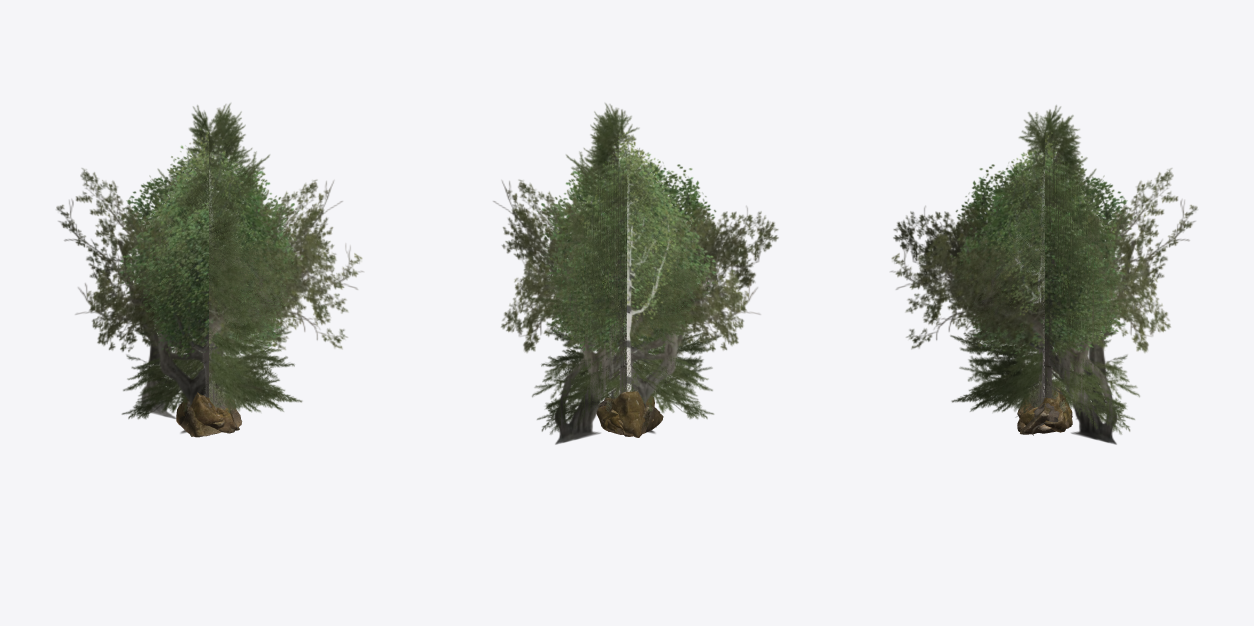
Rendered from nature.glb.
The picture shows the model from 3 angles, left to right: view 1: azimuth 30°, elevation 25°; view 2: azimuth 150°, elevation 25°; view 3: azimuth 270°, elevation 25°; orthographic projection.
Visible parts, largest first — view 1: n_leaf0__Body, n_fir0__Body, n_lind0__Body, n_lind1__Body, n_fir2__Body, n_birch0__Body, n_fir1__Body, n_rock2__Body, n_rock3__Body; view 2: n_leaf0__Body, n_fir0__Body, n_lind1__Body, n_fir2__Body, n_lind0__Body, n_birch0__Body, n_fir1__Body, n_rock3__Body, n_rock2__Body; view 3: n_leaf0__Body, n_fir0__Body, n_lind1__Body, n_fir2__Body, n_lind0__Body, n_birch0__Body, n_fir1__Body, n_rock3__Body.
Part boxes in pixels (left/top/right/bottom): n_leaf0__Body: left=56, top=168, right=363, bottom=433; n_fir0__Body: left=119, top=103, right=294, bottom=412; n_lind0__Body: left=117, top=155, right=303, bottom=403; n_lind1__Body: left=130, top=201, right=284, bottom=397; n_fir2__Body: left=122, top=180, right=302, bottom=419; n_birch0__Body: left=149, top=128, right=264, bottom=395; n_fir1__Body: left=137, top=156, right=284, bottom=411; n_rock2__Body: left=179, top=398, right=242, bottom=437; n_rock3__Body: left=176, top=392, right=222, bottom=426; n_leaf0__Body: left=493, top=179, right=778, bottom=444; n_fir0__Body: left=527, top=103, right=720, bottom=412; n_lind1__Body: left=549, top=201, right=705, bottom=393; n_fir2__Body: left=537, top=187, right=721, bottom=434; n_lind0__Body: left=537, top=151, right=716, bottom=347; n_birch0__Body: left=573, top=131, right=679, bottom=391; n_fir1__Body: left=553, top=152, right=702, bottom=424; n_rock3__Body: left=596, top=391, right=654, bottom=437; n_rock2__Body: left=600, top=397, right=663, bottom=435; n_leaf0__Body: left=890, top=168, right=1197, bottom=444; n_fir0__Body: left=950, top=105, right=1144, bottom=411; n_lind1__Body: left=971, top=201, right=1121, bottom=403; n_fir2__Body: left=950, top=190, right=1134, bottom=434; n_lind0__Body: left=950, top=151, right=1136, bottom=405; n_birch0__Body: left=988, top=132, right=1104, bottom=399; n_fir1__Body: left=968, top=154, right=1117, bottom=425; n_rock3__Body: left=1019, top=386, right=1069, bottom=432.
Bounding box in the file's own units: 17.87 × 18.22 × 15.48.
Materials: 17 (17 with a texture image).
